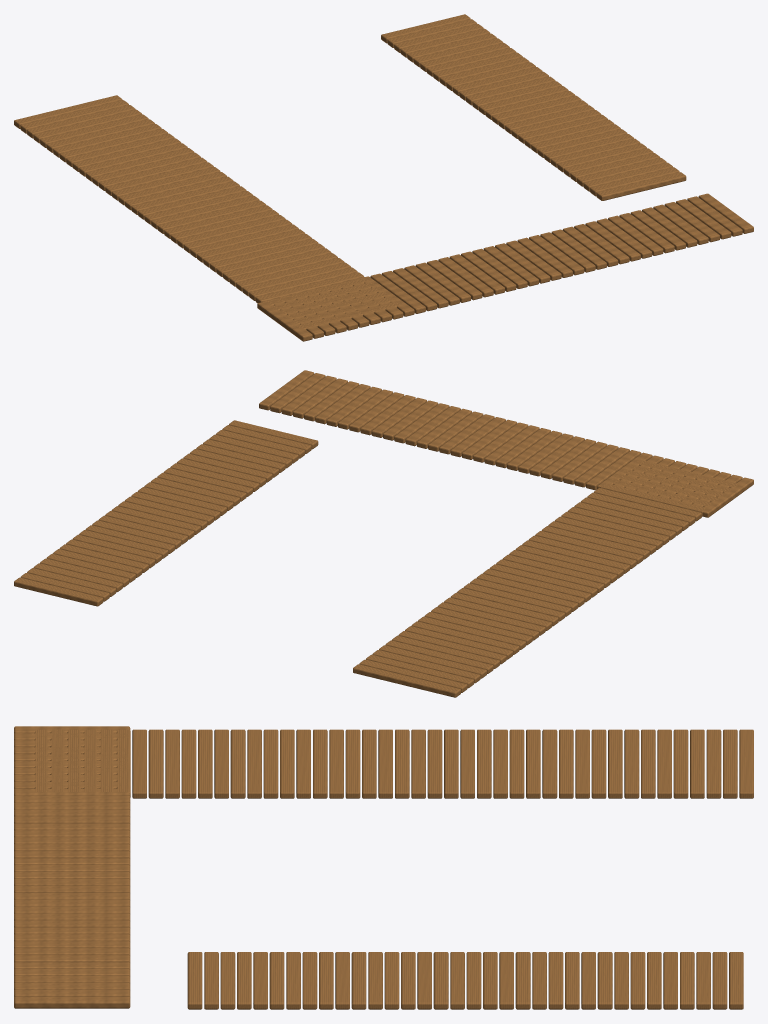
File: Pier_Deck.fbx
The picture shows the model from 3 angles, top to bottom: view 1: azimuth 30°, elevation 25°; view 2: azimuth 150°, elevation 25°; view 3: azimuth 270°, elevation 25°; orthographic projection. The views are drawn at different scales.
Parts seen in each view (by area): view 1: Pier_Deck; view 2: Pier_Deck; view 3: Pier_Deck.
Part boxes in pixels (x1,y1,x2,y2): Pier_Deck: [14, 14, 753, 341]; Pier_Deck: [14, 370, 753, 697]; Pier_Deck: [14, 726, 753, 1009].
Bounding box in the file's own units: 1921 × 2165 × 22.
